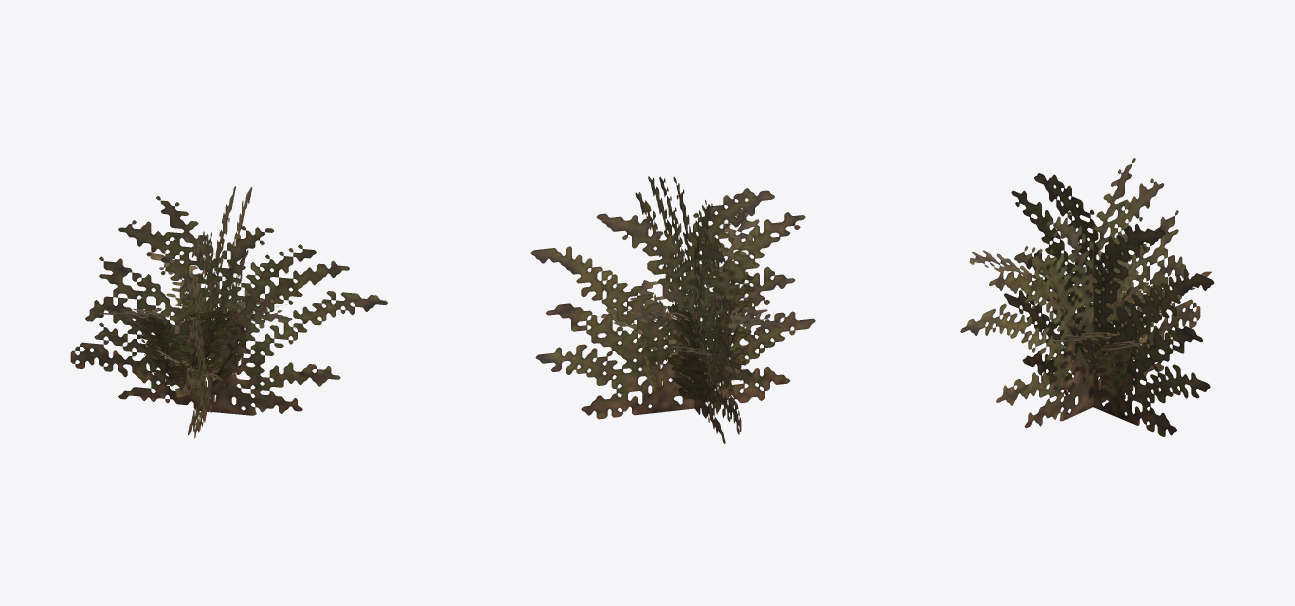
File: charred_fern_2.obj
3 views of the same model, side by side, from view 1: azimuth 30°, elevation 25°; view 2: azimuth 150°, elevation 25°; view 3: azimuth 270°, elevation 25° (orthographic). The views are drawn at different scales.
Parts seen in each view (by area): view 1: cube; view 2: cube; view 3: cube.
Boxes of the visible parts, x1,y1,x2,y2 form: cube: [70, 186, 387, 438]; cube: [530, 176, 815, 443]; cube: [960, 158, 1214, 436].
Size of the model in its own units: 2.07 by 2.81 by 2.03.
